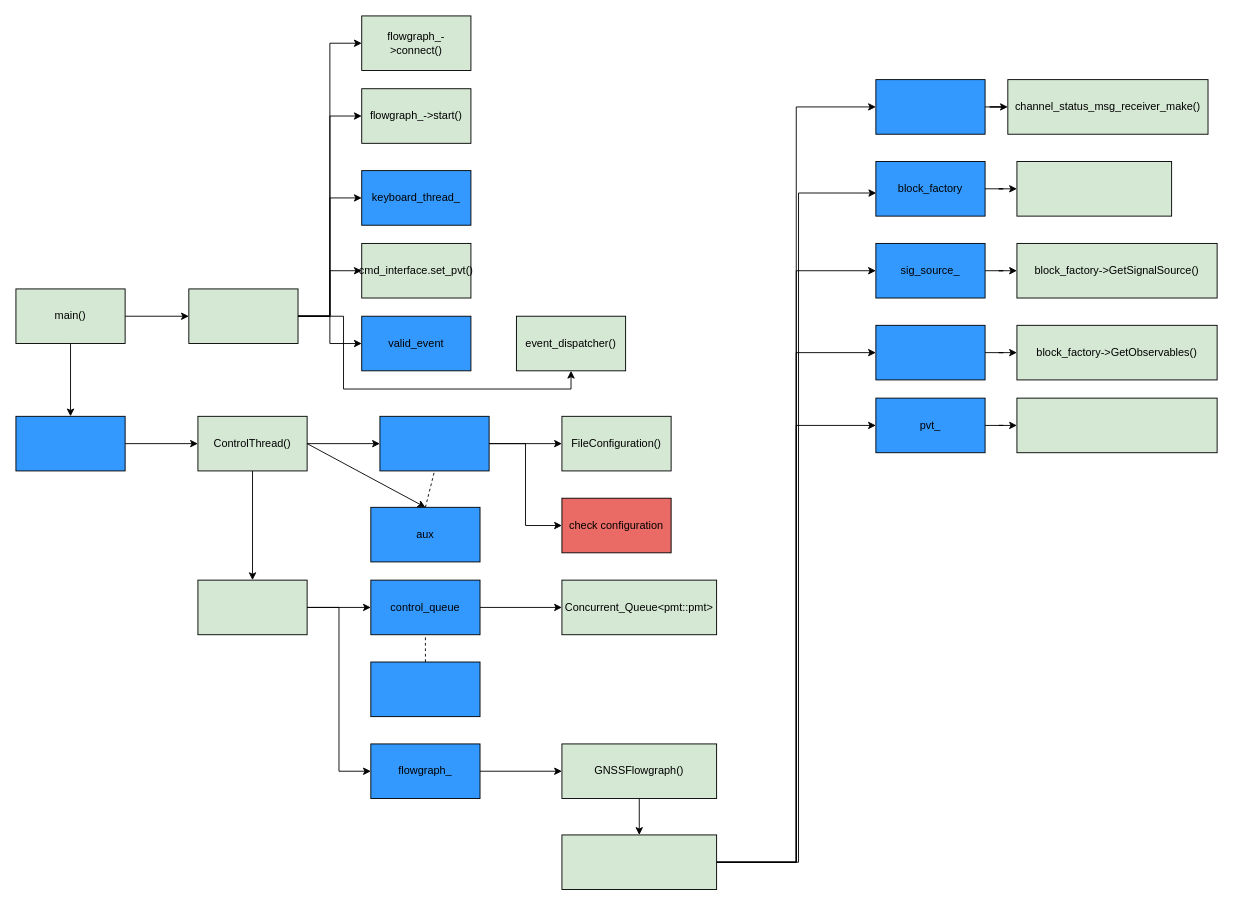
Image size: 1233x905. Some labels were removed from this diagram. The centre of each missing label's shape, as x and y in pixels:
block_factory->GetPVT(): the point at 1116,425
channel_status_: the point at 930,106
cmd_interface_: the point at 425,689
configuration_: the point at 434,443
control_thread: the point at 70,443
control_thread->run(): the point at 243,316
ControlThread::init(): the point at 252,607
GNSSBlockFactory(): the point at 1094,188
GNSSFlowgraph::init(): the point at 639,862
observables_: the point at 930,352
